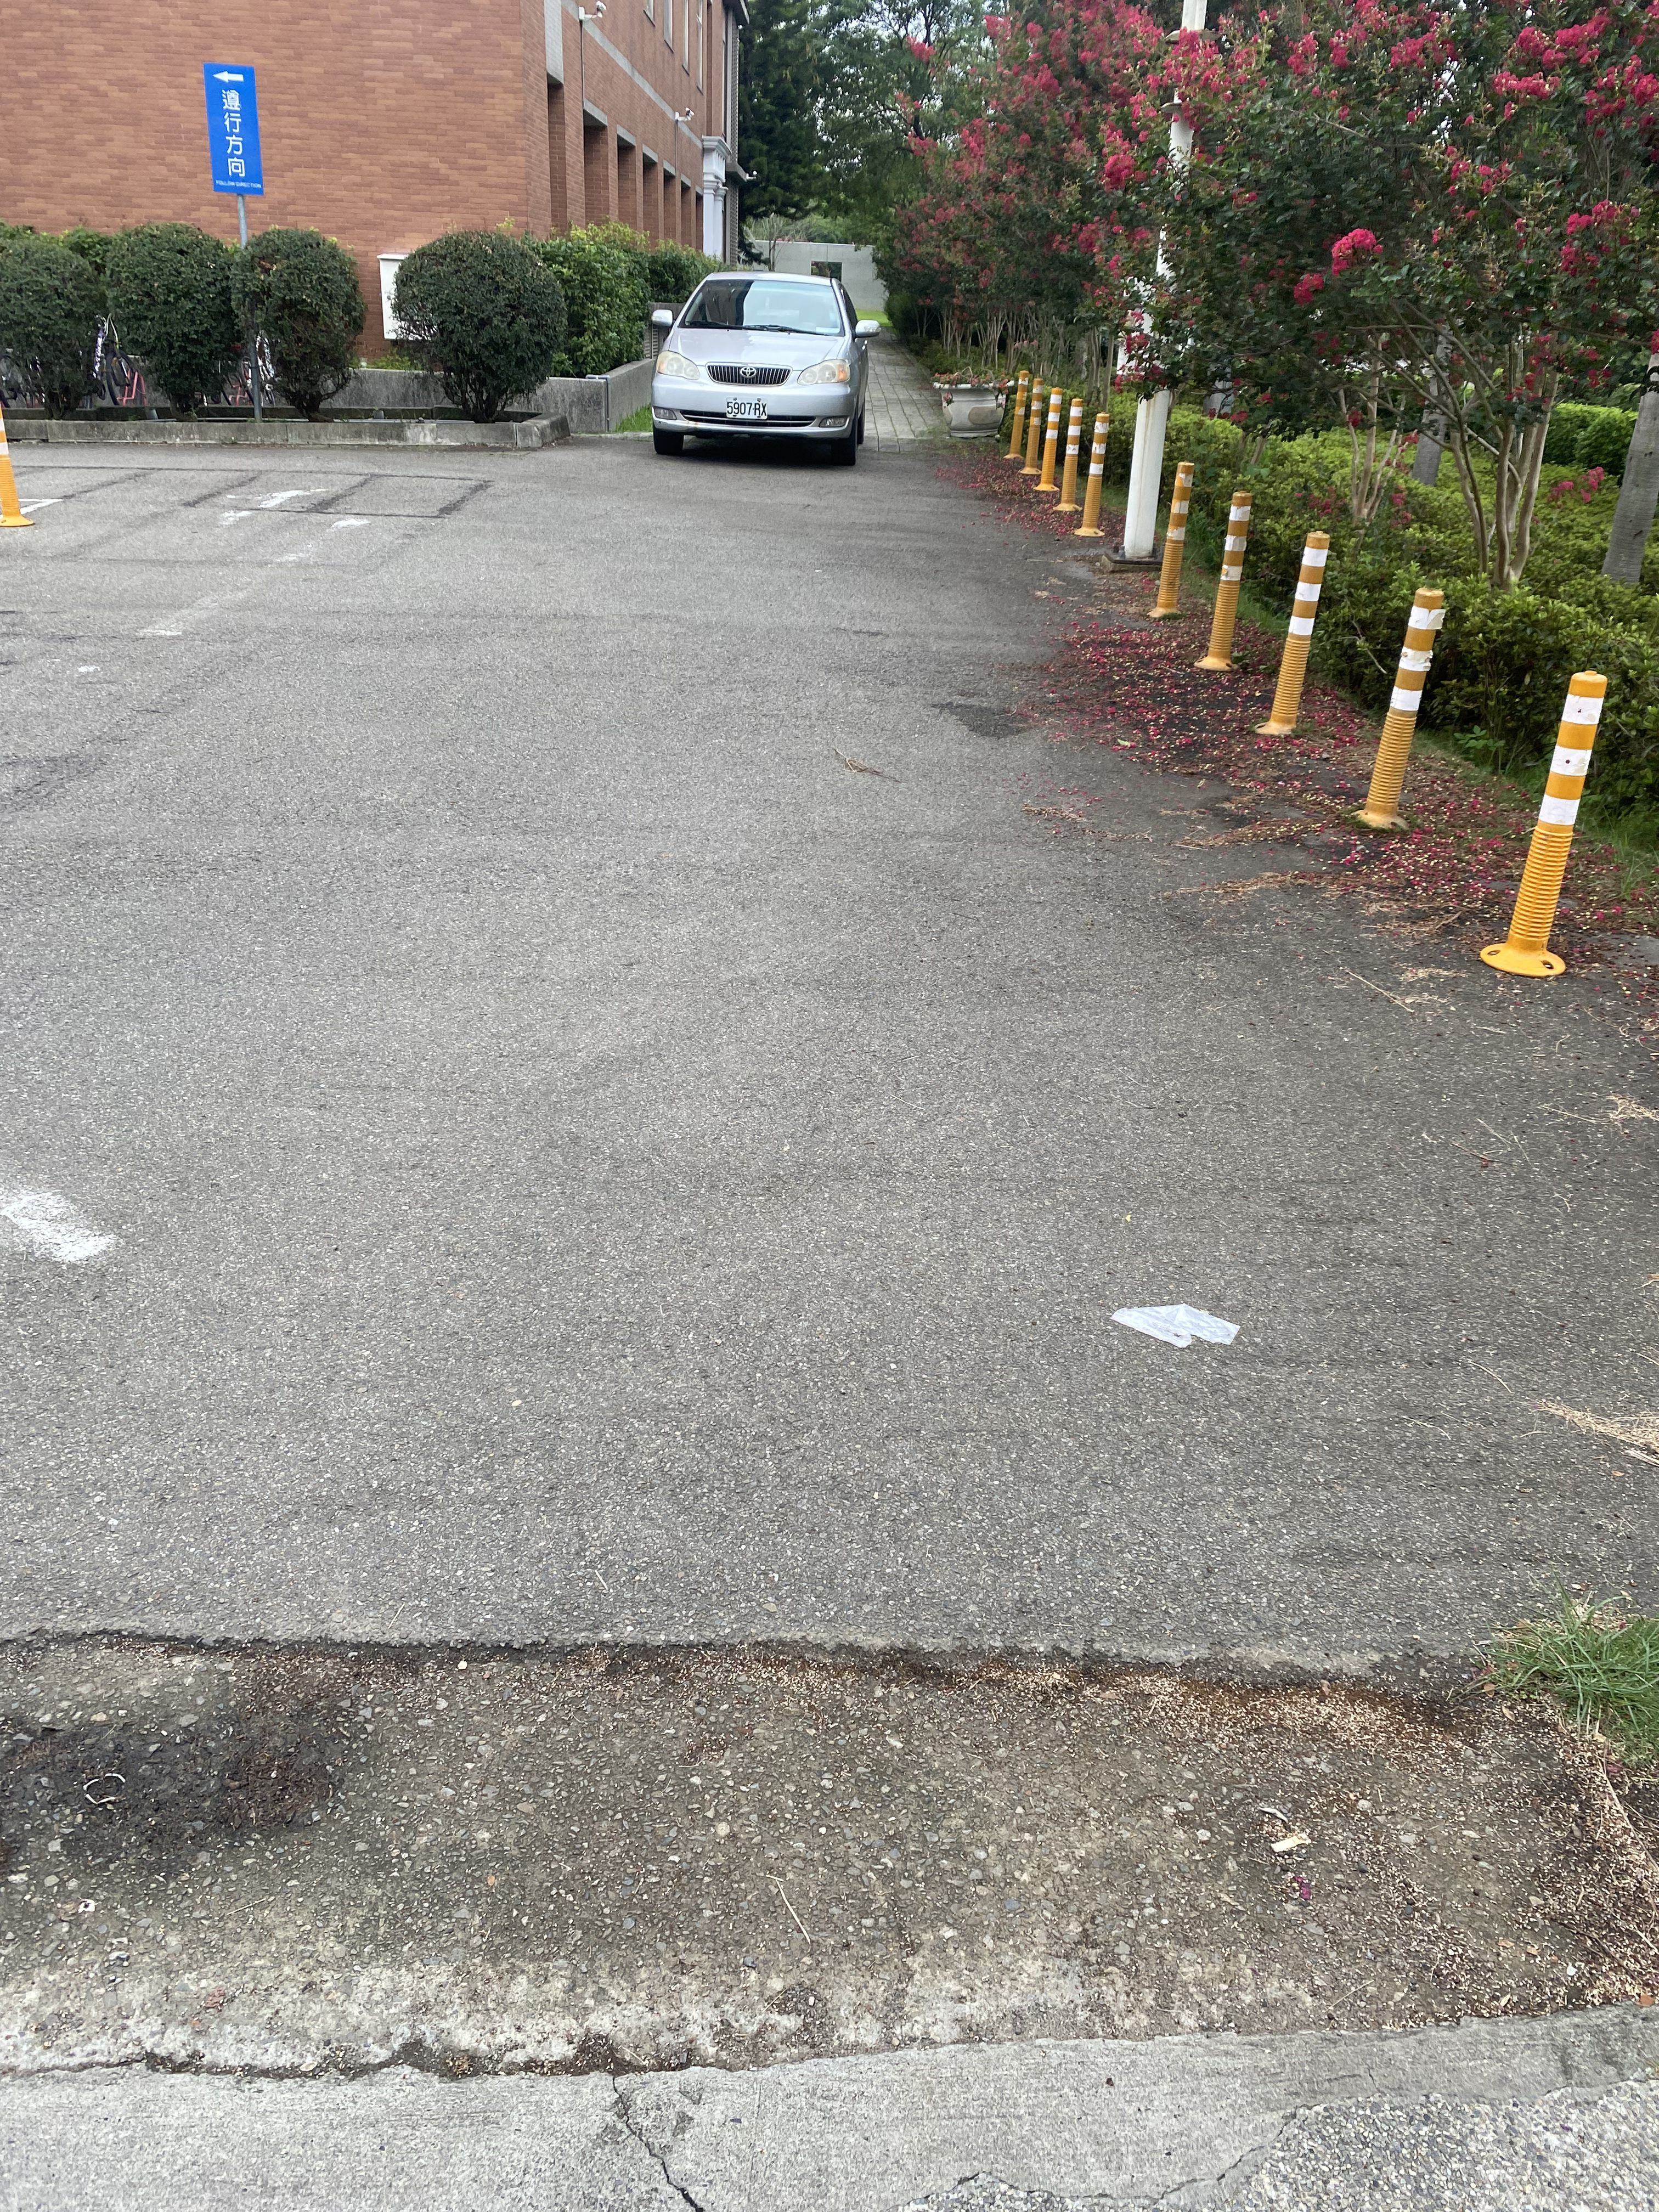sidewalk: (362, 409, 1344, 2158)
